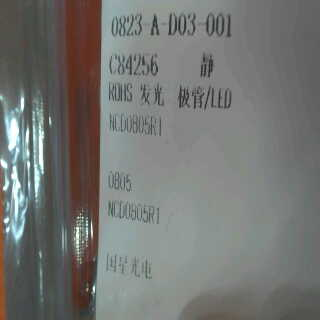LED: (134, 80, 248, 113)
